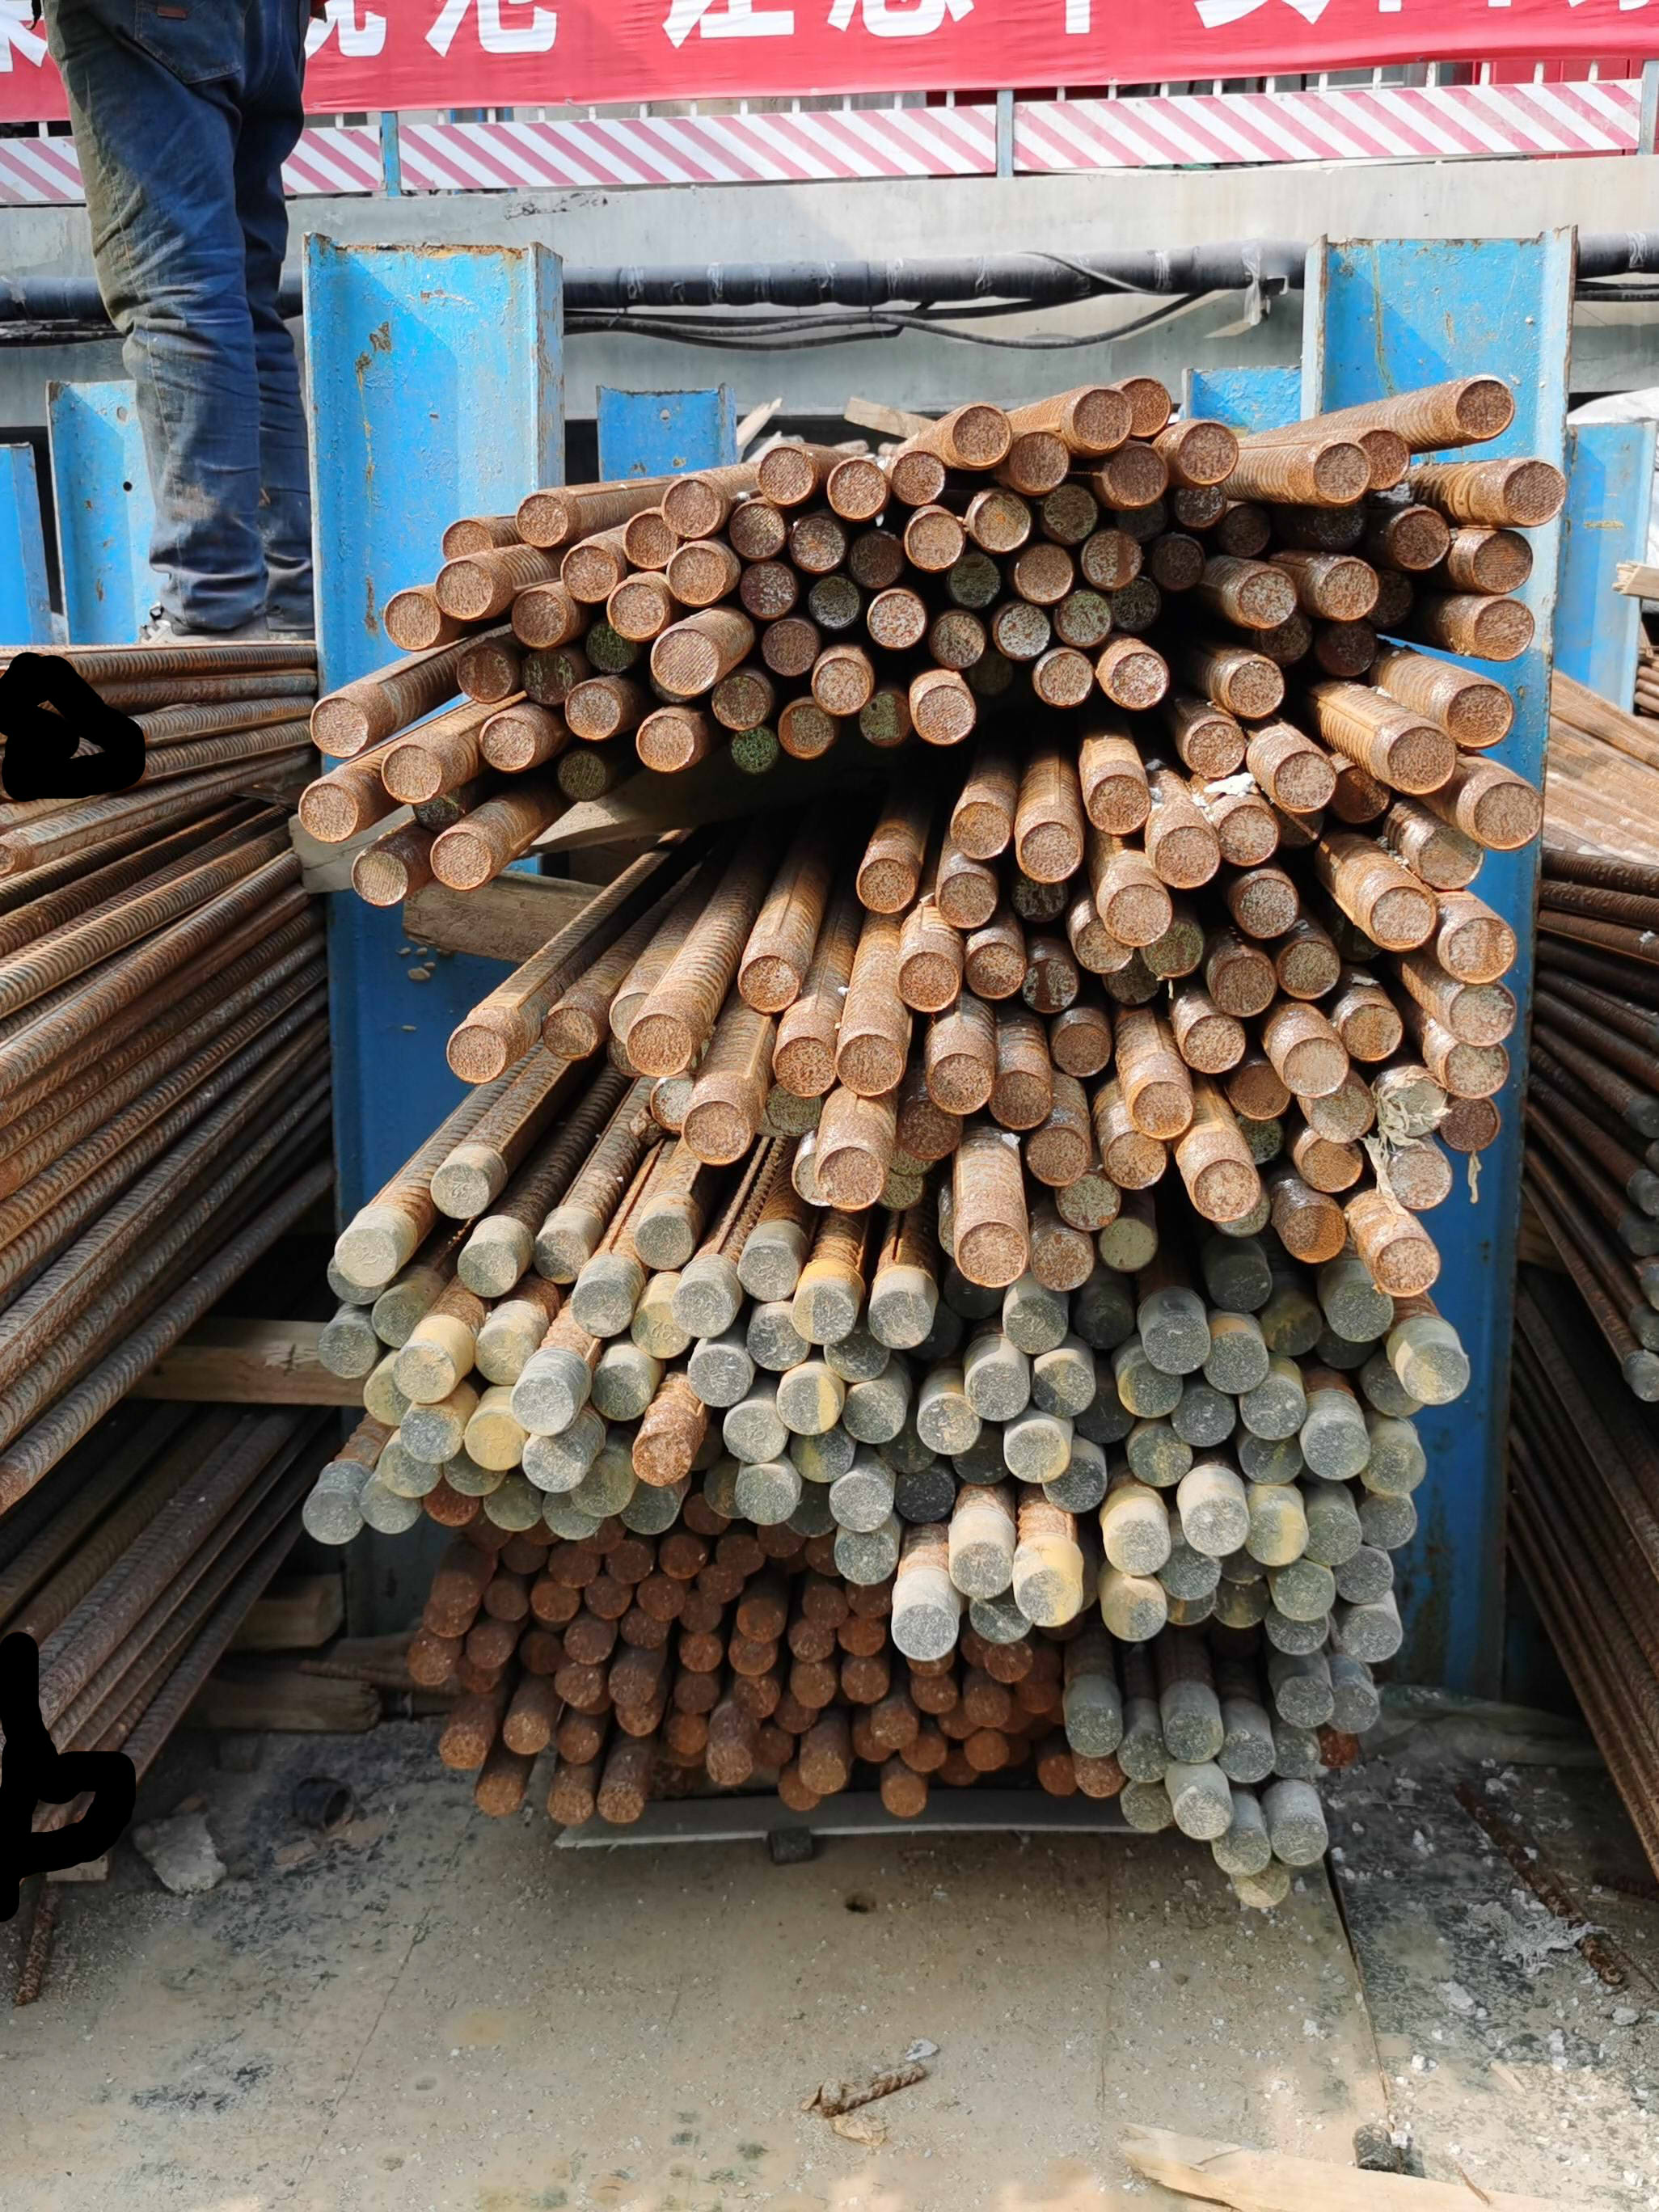rebar: (1468, 778, 1543, 851), (955, 1217, 1028, 1290), (647, 626, 721, 697), (1203, 1325, 1273, 1398), (1302, 1412, 1374, 1484), (1099, 437, 1167, 512), (1449, 371, 1518, 445), (1442, 681, 1518, 751), (1442, 914, 1518, 984), (1150, 821, 1222, 892), (1383, 724, 1458, 795), (743, 1302, 812, 1374), (1466, 525, 1536, 595), (567, 1449, 635, 1520), (1399, 1337, 1471, 1407), (1497, 456, 1565, 530), (1323, 1277, 1396, 1345), (1445, 981, 1521, 1047), (1366, 883, 1437, 953), (1380, 1074, 1450, 1144), (623, 1011, 694, 1079), (1371, 1234, 1442, 1301), (684, 1343, 756, 1409), (1243, 1496, 1311, 1569), (1272, 747, 1340, 817), (1413, 824, 1484, 892), (1104, 880, 1172, 948), (1438, 1093, 1507, 1161), (1175, 420, 1241, 491), (1386, 503, 1451, 576), (1310, 556, 1382, 623), (835, 1031, 905, 1097), (818, 1142, 884, 1214), (1307, 1079, 1378, 1146), (1141, 1312, 1213, 1378), (1237, 1375, 1308, 1442), (1279, 1032, 1353, 1098), (683, 1097, 750, 1166), (788, 1279, 856, 1347), (1125, 1421, 1194, 1489), (924, 1051, 993, 1117), (1385, 1146, 1454, 1212), (1115, 1354, 1185, 1420), (1279, 1200, 1350, 1265), (329, 1223, 400, 1288), (914, 1394, 984, 1458), (1001, 1418, 1072, 1482), (380, 742, 446, 809), (1181, 713, 1248, 781), (894, 947, 960, 1015), (628, 1425, 695, 1491), (965, 1357, 1032, 1423), (1170, 1383, 1237, 1450), (1069, 386, 1133, 454), (1467, 599, 1537, 664), (1235, 872, 1299, 940), (453, 1237, 522, 1301), (1361, 1434, 1430, 1497), (1100, 1577, 1169, 1643), (1188, 1159, 1260, 1223), (1440, 1039, 1512, 1100), (304, 692, 369, 758), (776, 1373, 842, 1438), (471, 1322, 537, 1388), (1268, 1804, 1333, 1871), (443, 1019, 510, 1083), (896, 1095, 965, 1160), (1211, 953, 1276, 1020), (509, 1374, 576, 1438), (827, 1468, 895, 1532), (1103, 1512, 1171, 1577), (1271, 1559, 1338, 1623), (1008, 426, 1072, 496), (867, 1288, 935, 1350), (1028, 1356, 1098, 1418), (1261, 1289, 1325, 1359), (354, 1478, 424, 1539), (821, 1326, 893, 1384), (808, 651, 876, 716), (1223, 656, 1288, 722), (1086, 773, 1152, 838), (771, 1032, 836, 1098), (1278, 939, 1343, 1003), (570, 1277, 635, 1341), (315, 1316, 382, 1382), (461, 1407, 526, 1471), (1332, 1542, 1397, 1606), (452, 638, 513, 706), (913, 679, 976, 748), (843, 1375, 905, 1445), (1040, 1453, 1108, 1516), (947, 1539, 1014, 1601), (1155, 1540, 1223, 1602), (777, 695, 838, 764), (1311, 438, 1373, 509), (889, 1602, 961, 1661), (297, 781, 361, 845), (430, 827, 496, 892), (562, 678, 625, 742), (724, 500, 789, 564), (865, 588, 927, 653), (988, 1068, 1054, 1131), (1337, 1001, 1404, 1065), (1100, 1129, 1167, 1192), (669, 1279, 736, 1340), (395, 1340, 459, 1404), (1074, 1285, 1138, 1352), (1018, 1565, 1084, 1629), (1183, 1494, 1250, 1558), (433, 557, 496, 625), (946, 800, 1014, 862), (606, 577, 666, 645), (1226, 1061, 1293, 1121), (734, 1242, 802, 1303), (518, 1429, 585, 1492), (1002, 1294, 1070, 1356), (1334, 760, 1392, 829), (1056, 1172, 1125, 1232), (348, 845, 412, 908), (633, 712, 697, 775), (657, 474, 721, 537), (901, 509, 965, 572), (969, 488, 1032, 551), (1235, 568, 1298, 633), (1017, 820, 1083, 883), (737, 951, 800, 1016), (965, 940, 1028, 1003), (1181, 1012, 1247, 1075), (1130, 1079, 1195, 1142), (1024, 1125, 1089, 1188), (722, 1402, 787, 1464), (1364, 1358, 1429, 1421), (1340, 1601, 1404, 1663), (382, 589, 442, 655), (756, 441, 817, 507), (952, 401, 1012, 467), (852, 858, 918, 918), (631, 1213, 698, 1273), (376, 1438, 442, 1499), (733, 1464, 800, 1526), (833, 1526, 900, 1587), (1169, 1782, 1236, 1843), (825, 453, 886, 521), (1220, 803, 1280, 872), (616, 511, 680, 572), (667, 545, 731, 607), (1038, 482, 1101, 546), (1081, 528, 1144, 591), (1140, 916, 1203, 979), (631, 1297, 693, 1360), (369, 1289, 432, 1351), (399, 1404, 462, 1466), (589, 1361, 652, 1423), (477, 712, 538, 776), (301, 1486, 363, 1550), (889, 443, 948, 509), (1313, 621, 1378, 679), (1208, 1256, 1275, 1314), (790, 1428, 859, 1484), (1013, 542, 1075, 603), (1053, 586, 1113, 649), (1049, 1019, 1112, 1080), (1099, 1213, 1159, 1275), (894, 1467, 956, 1529), (1217, 1726, 1280, 1787), (936, 869, 1000, 928), (1059, 1702, 1124, 1762), (1239, 1431, 1307, 1488), (1356, 425, 1409, 495), (557, 544, 618, 605), (736, 559, 796, 619), (787, 514, 846, 576), (1034, 647, 1094, 707), (1108, 650, 1170, 711), (1031, 1231, 1093, 1292), (1166, 1708, 1227, 1768), (846, 530, 907, 590), (1299, 1137, 1363, 1196), (1359, 1492, 1421, 1551), (533, 1223, 590, 1288), (967, 1594, 1035, 1648), (542, 1483, 603, 1542), (804, 570, 862, 631), (479, 1476, 542, 1535), (1212, 1821, 1273, 1878), (1071, 917, 1136, 973), (1307, 1505, 1363, 1568), (1122, 372, 1173, 442), (1327, 1678, 1385, 1739), (930, 610, 988, 671), (618, 1477, 678, 1535), (956, 1428, 1016, 1486), (1275, 1670, 1337, 1728), (512, 588, 568, 650), (1218, 500, 1274, 563), (537, 1007, 600, 1063), (429, 1163, 491, 1218), (436, 515, 500, 569), (765, 1080, 824, 1138), (1116, 1725, 1173, 1786), (1273, 1725, 1332, 1786), (761, 616, 817, 677), (1262, 1610, 1332, 1658), (1228, 1860, 1293, 1913), (522, 649, 580, 707), (995, 602, 1053, 660), (1117, 1779, 1174, 1835), (515, 491, 572, 551), (859, 689, 914, 748), (646, 1074, 699, 1136), (711, 676, 769, 732), (1150, 534, 1205, 593), (1023, 956, 1079, 1012), (948, 548, 1000, 608), (1211, 1577, 1272, 1627), (580, 619, 634, 676), (361, 1369, 412, 1427), (420, 1479, 479, 1530), (439, 1453, 504, 1498), (595, 1774, 648, 1826), (436, 1721, 492, 1773), (1111, 572, 1160, 630), (557, 748, 608, 803), (426, 1569, 480, 1619), (786, 1149, 831, 1210), (703, 1736, 755, 1790), (498, 1707, 554, 1756), (1175, 479, 1225, 531), (516, 1624, 568, 1676), (560, 1615, 615, 1664), (603, 1539, 657, 1587), (732, 1594, 786, 1643), (1237, 1108, 1285, 1163), (543, 1778, 594, 1829), (584, 1570, 633, 1622), (701, 1468, 749, 1521), (607, 1659, 658, 1708), (786, 1660, 838, 1709), (877, 1769, 928, 1818), (960, 1685, 1013, 1733), (1015, 1665, 1062, 1717), (407, 1635, 454, 1689), (473, 1771, 526, 1818), (546, 1547, 603, 1589), (728, 724, 778, 775), (634, 1577, 686, 1624), (798, 1581, 849, 1630), (785, 1615, 835, 1663), (839, 1654, 891, 1704), (870, 1699, 918, 1748), (1014, 876, 1067, 922), (1107, 959, 1159, 1007), (725, 1632, 779, 1677), (981, 1639, 1036, 1685), (481, 1576, 530, 1624), (463, 1623, 513, 1670), (530, 1577, 580, 1625), (713, 1530, 764, 1577), (730, 1672, 782, 1718), (1075, 1754, 1127, 1800), (552, 1718, 602, 1765), (555, 1662, 603, 1708), (775, 1765, 821, 1813), (660, 1530, 707, 1581), (669, 1670, 720, 1715), (616, 1606, 669, 1649), (675, 1590, 724, 1635), (799, 1748, 847, 1795), (837, 1615, 887, 1658), (898, 1732, 948, 1775), (960, 1728, 1011, 1772), (878, 1163, 924, 1211), (662, 1710, 709, 1755), (451, 1657, 504, 1697), (1036, 1754, 1080, 1800), (500, 1536, 548, 1578), (678, 1629, 722, 1674), (758, 1517, 804, 1560), (910, 1674, 957, 1716), (611, 1698, 661, 1738), (696, 1564, 746, 1603), (711, 1701, 761, 1740), (849, 1721, 890, 1767), (683, 1495, 727, 1536), (778, 1692, 817, 1732), (848, 1583, 891, 1619), (804, 1536, 841, 1577), (756, 1727, 793, 1763)
